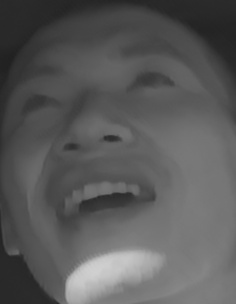eye: (13, 88, 65, 119), (125, 67, 178, 97)
mouth: (46, 165, 156, 235)
